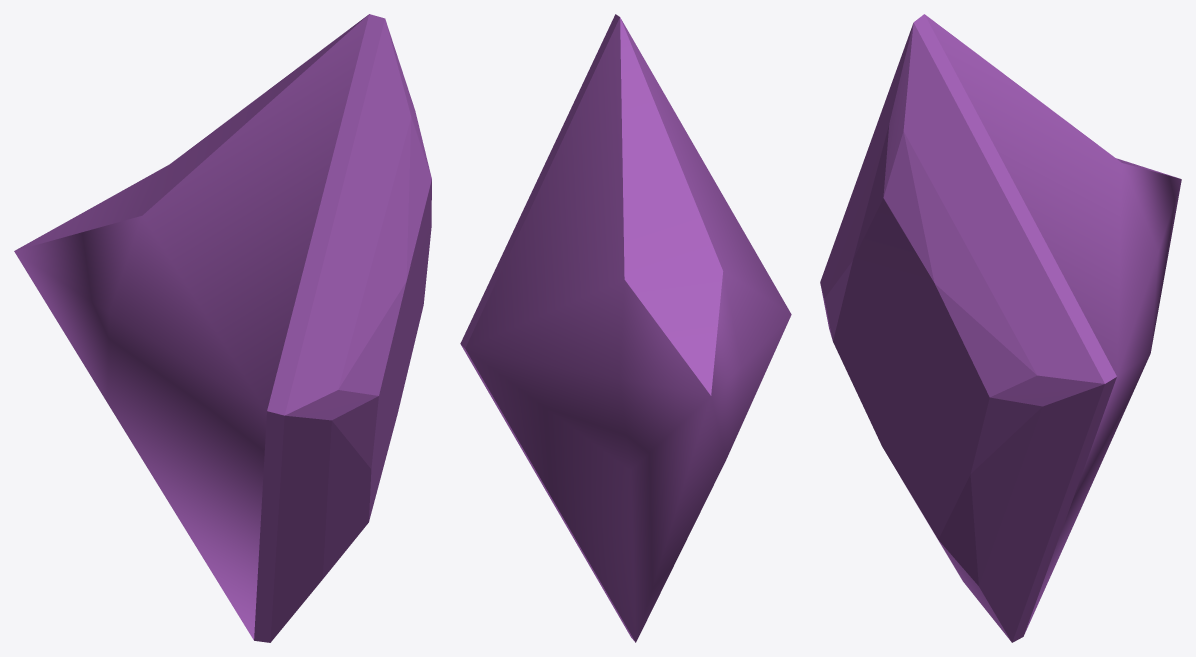
The model's file is TR3_8shapes_Kite_Classic_Stone.001 3.glb.
3 renders of one model, left to right at view 1: azimuth 30°, elevation 25°; view 2: azimuth 150°, elevation 25°; view 3: azimuth 270°, elevation 25°, orthographic. The views are drawn at different scales.
Visible parts, largest first — view 1: TR3_8shapes_Kite_Classic_Stone.001; view 2: TR3_8shapes_Kite_Classic_Stone.001; view 3: TR3_8shapes_Kite_Classic_Stone.001.
Part boxes in pixels (box(x1,y1,x2,y2)): TR3_8shapes_Kite_Classic_Stone.001: box(14, 14, 431, 642); TR3_8shapes_Kite_Classic_Stone.001: box(460, 14, 791, 642); TR3_8shapes_Kite_Classic_Stone.001: box(820, 14, 1181, 642).
Bounding box in the file's own units: 0.3261 × 0.6346 × 0.3169.
